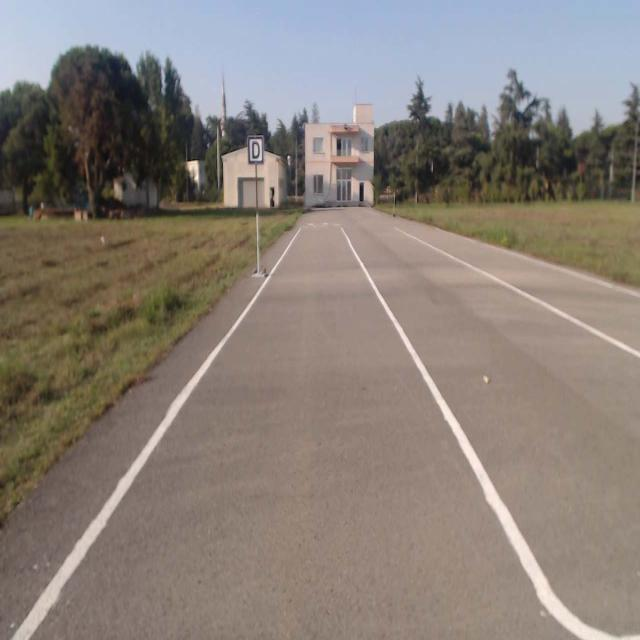durak: (248, 136, 264, 162)
